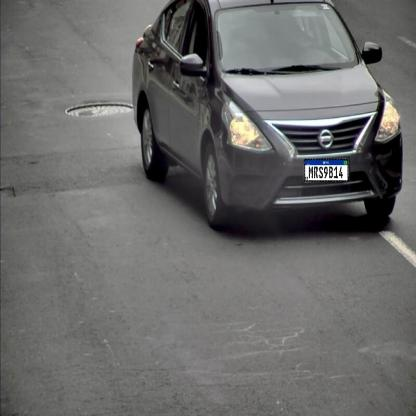PlacaM: (304, 158, 349, 182)
